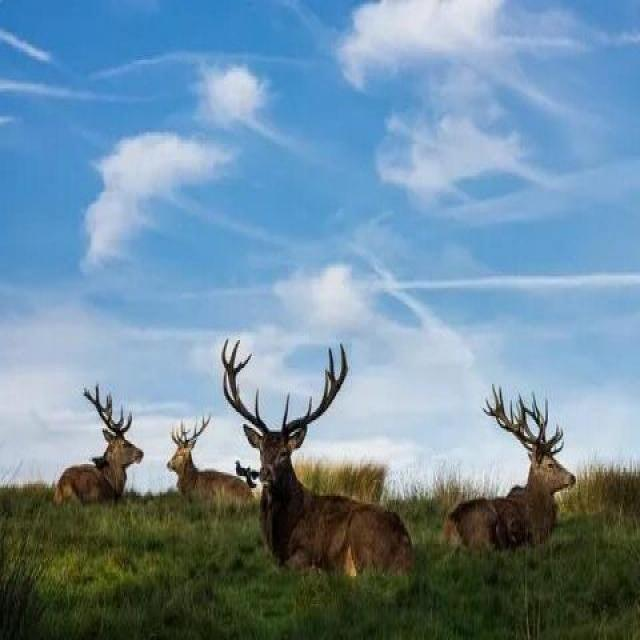deer: (243, 376, 464, 639), (451, 419, 595, 604), (145, 400, 252, 564), (44, 403, 170, 534)
